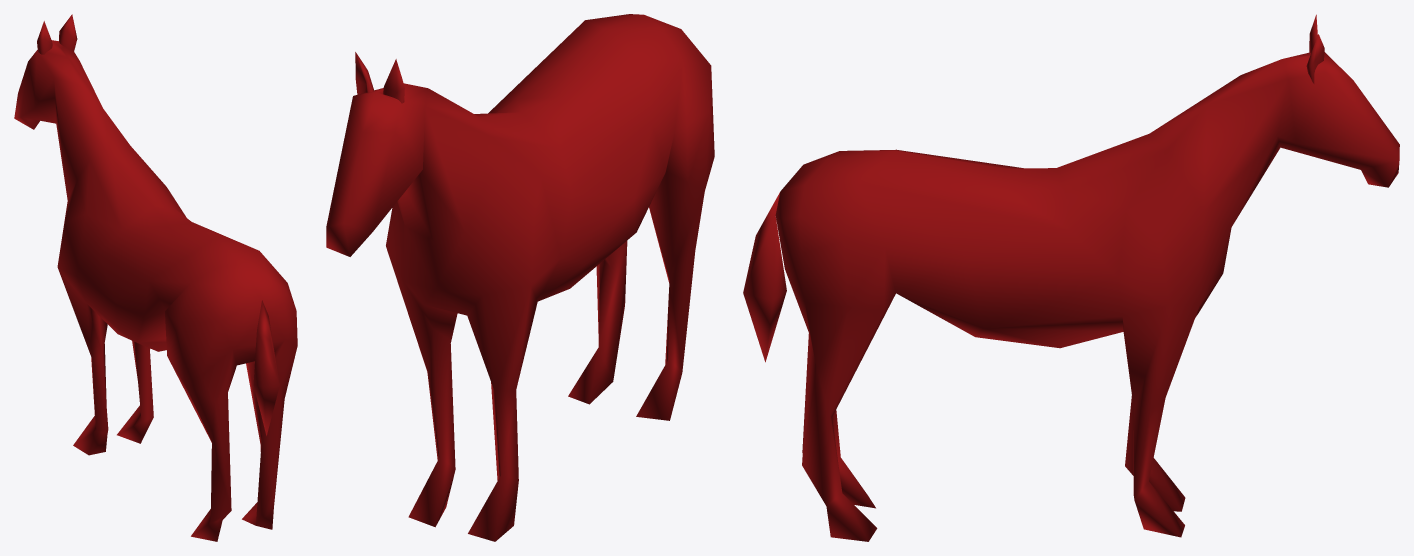
Rendered from horse.obj.
3 renders of one model, left to right at view 1: azimuth 30°, elevation 25°; view 2: azimuth 150°, elevation 25°; view 3: azimuth 270°, elevation 25°, orthographic. The views are drawn at different scales.
Visible parts, largest first — view 1: Free+Pack+-+Lowpoly+Animal.005; view 2: Free+Pack+-+Lowpoly+Animal.005; view 3: Free+Pack+-+Lowpoly+Animal.005.
Boxes of the visible parts, <box> form: Free+Pack+-+Lowpoly+Animal.005: <box>14,14,297,541</box>; Free+Pack+-+Lowpoly+Animal.005: <box>326,14,714,541</box>; Free+Pack+-+Lowpoly+Animal.005: <box>743,14,1399,541</box>.
Bounding box in the file's own units: 0.7388 × 2.19 × 2.62.
